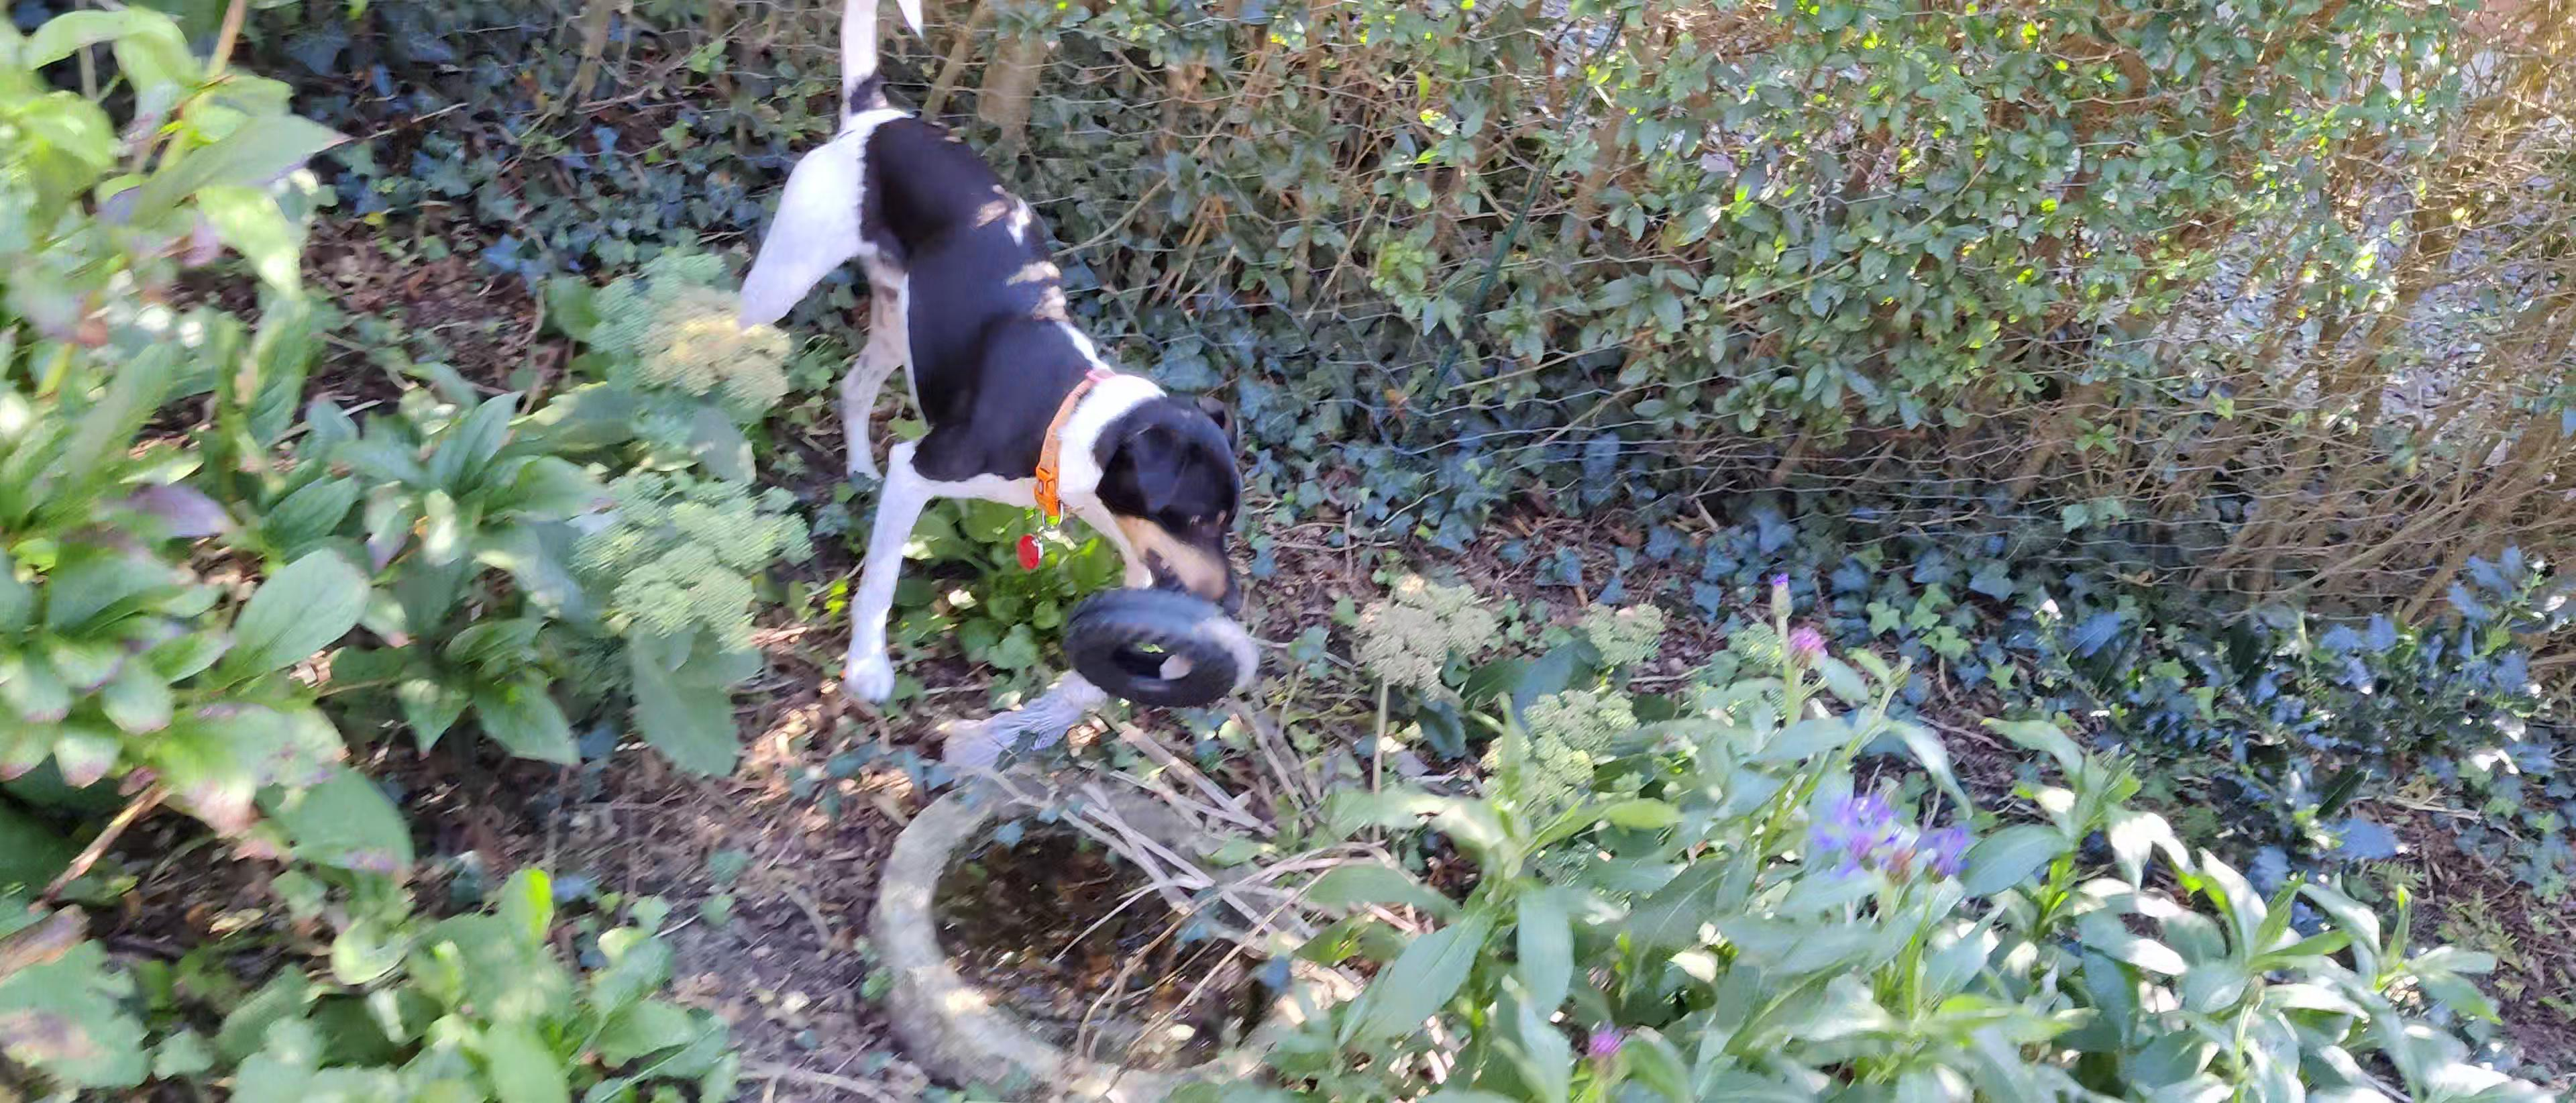Dog: (726, 0, 1247, 712)
